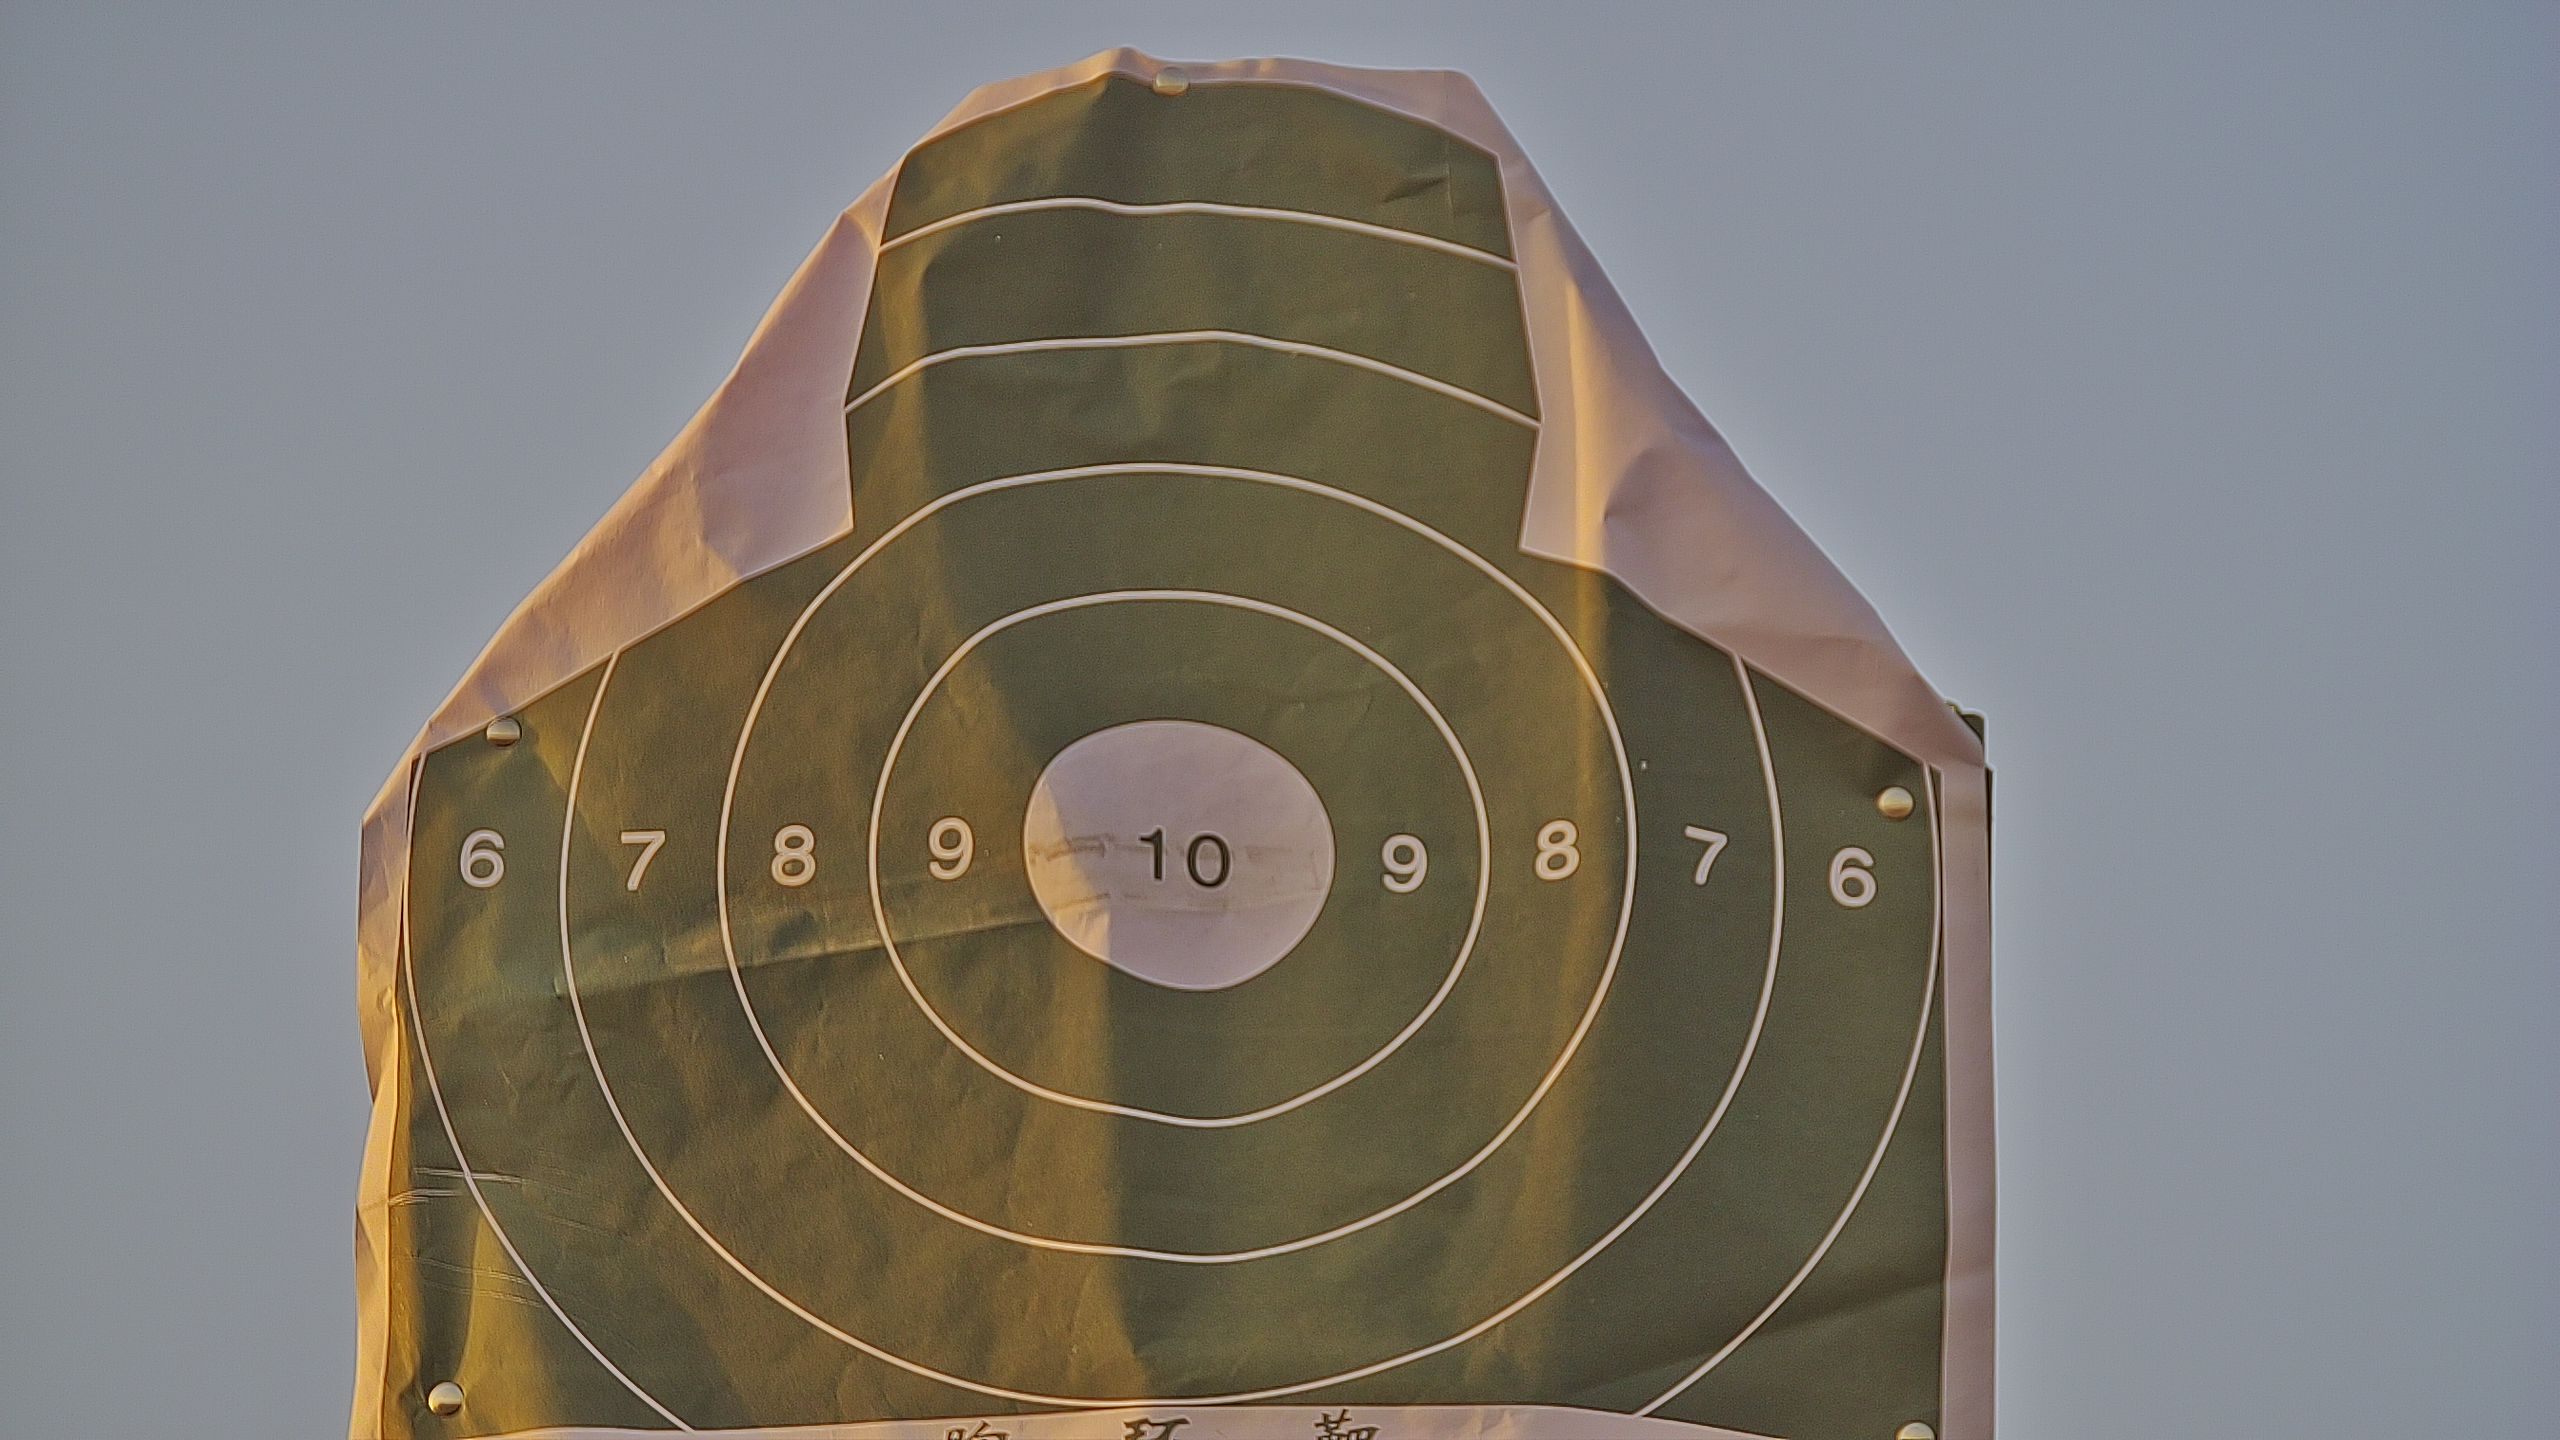kernel: (1173, 856, 1178, 858)
target: (378, 83, 1953, 1440)
ten: (1020, 717, 1336, 990)
